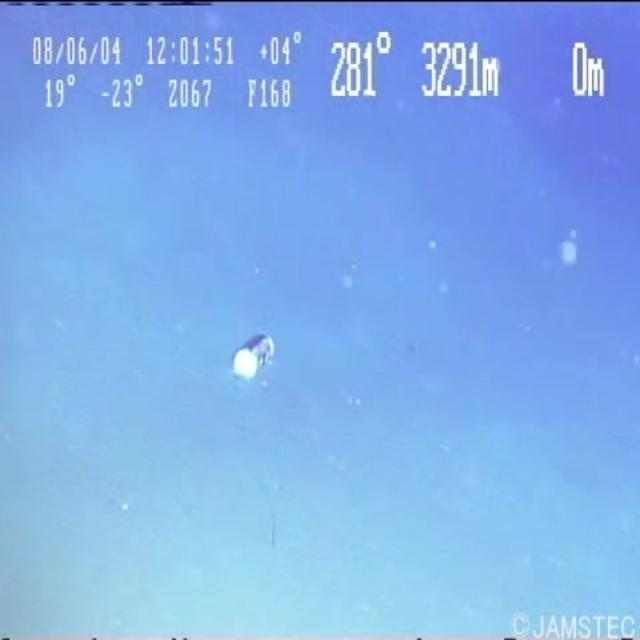Metal: (222, 318, 290, 398)
